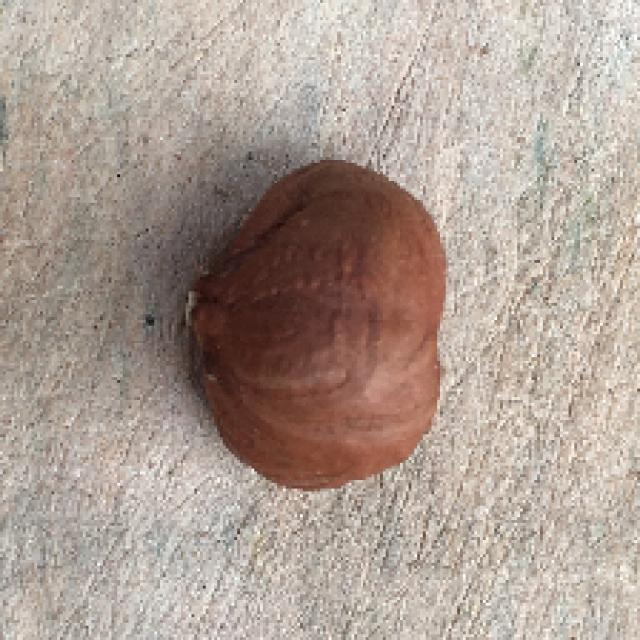hazelnut: (165, 147, 459, 505)
